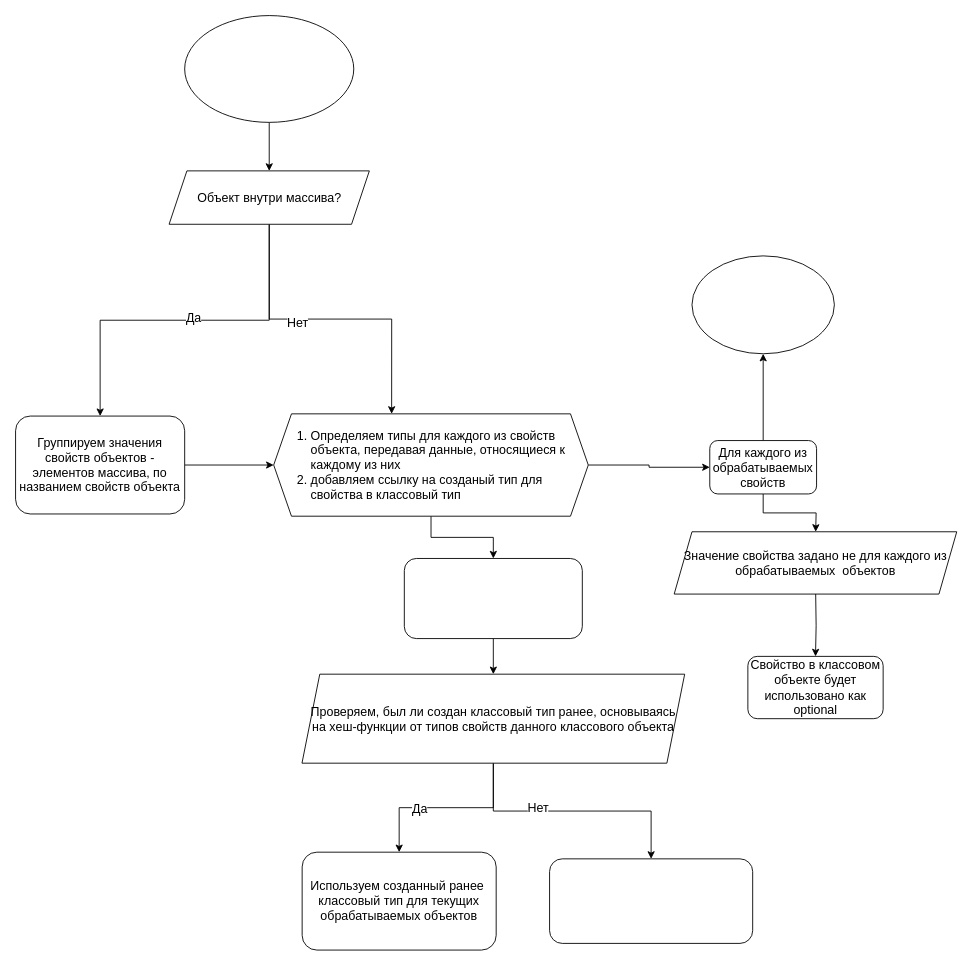
Some shapes in this 973 by 966 pixel diagram are drawn without their labels. The shapes that lost their labels are listed below. From the top down, each one's centre as x and y in pixels, then its label:
the point at 269,68: Обрабатывается объект для формирования типового графа
the point at 762,304: Вызов функции формирования графа для свойства объекта
the point at 492,598: Окончание обработки свойств классового типа
the point at 651,900: Создаем классовый тип, добавляя в него ссылки на типы свойств
